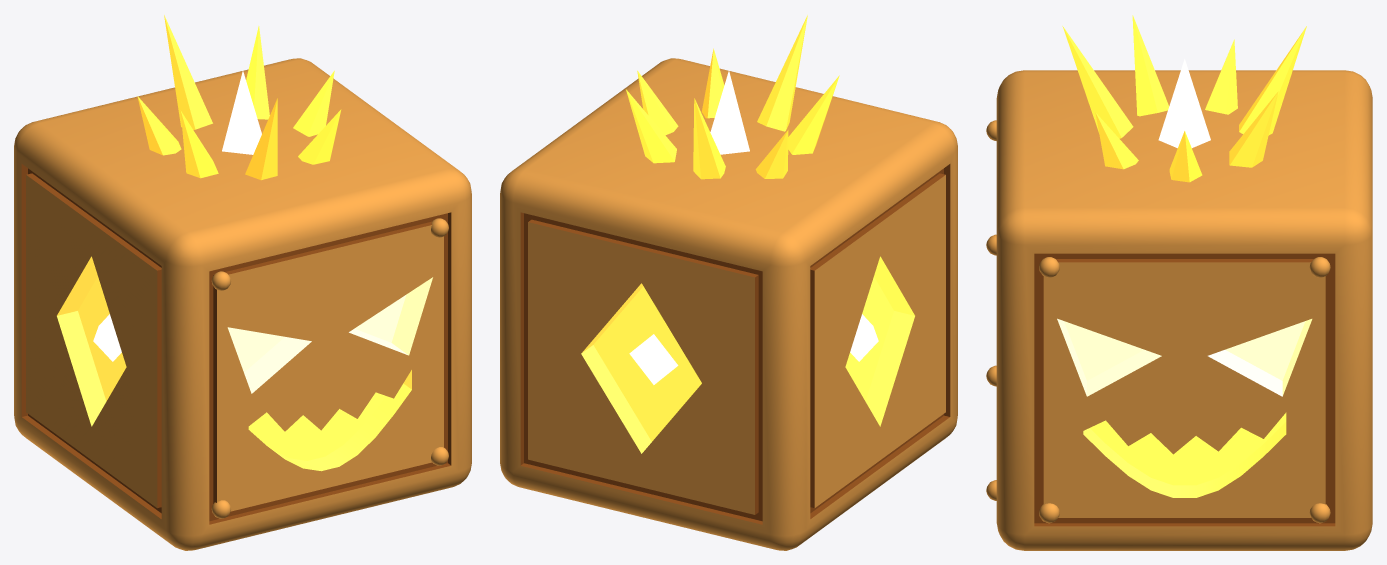
Rendered from hero.glb.
3 views of the same model, side by side, from view 1: azimuth 30°, elevation 25°; view 2: azimuth 150°, elevation 25°; view 3: azimuth 270°, elevation 25° (orthographic). The views are drawn at different scales.
Parts seen in each view (by area): view 1: Hero; view 2: Hero; view 3: Hero.
Boxes of the visible parts, bbox=[...] form: Hero: bbox=[14, 15, 471, 550]; Hero: bbox=[500, 15, 957, 550]; Hero: bbox=[986, 15, 1372, 550].
Bounding box in the file's own units: 1.03 × 1.3 × 1.03.
